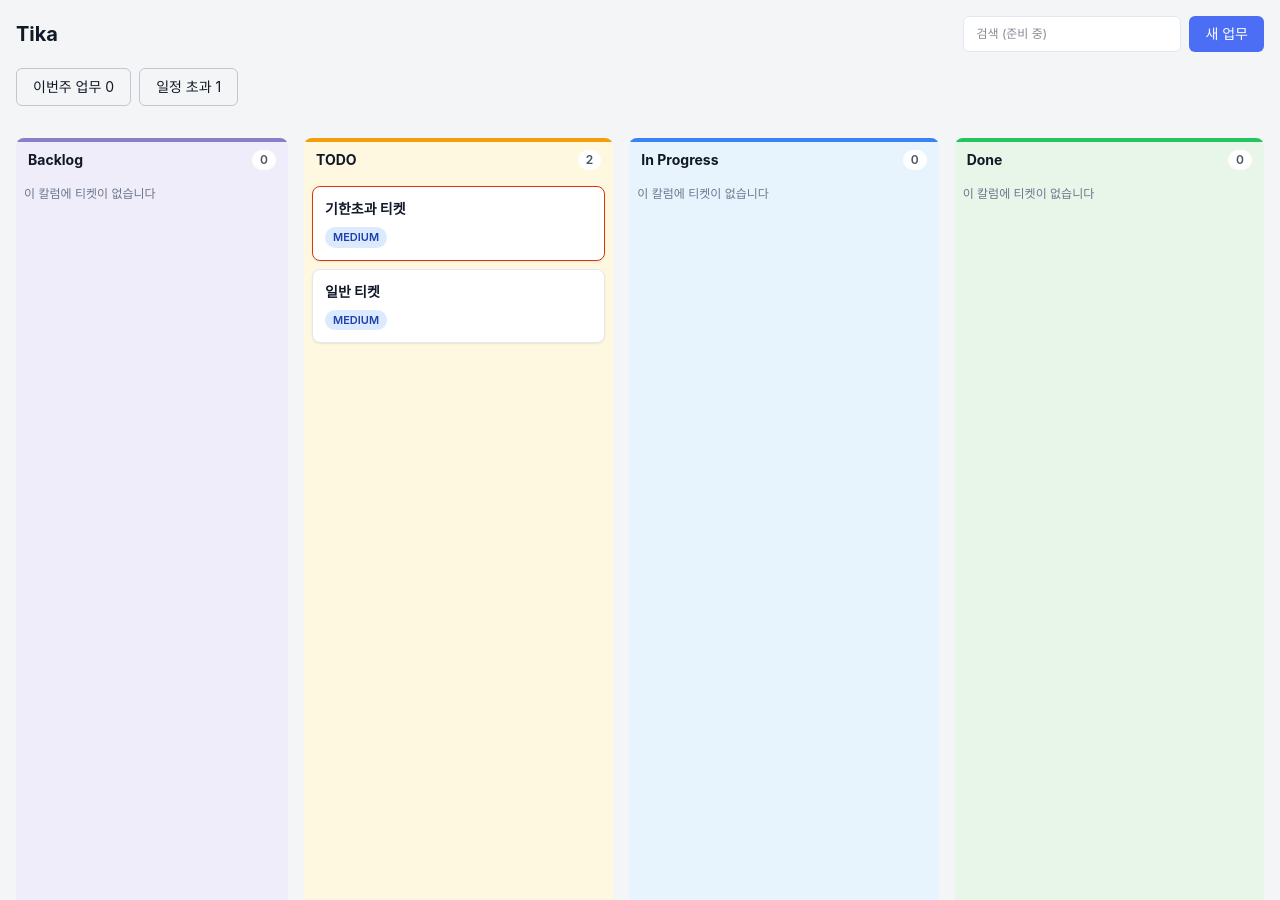
Scenario: BoardContainer › FilterBar에서 필터 변경 시 Board에는 필터링된 결과가 전달된다
The width and height of the screenshot is (1280, 900).
Check: the text "일반 티켓" is shown, box [325,282,380,300]
What coordinates should you click on to do the following:
click the button "일정 초과 1"
I would click on:
 (189, 87)
Its box is [139,68,238,106].
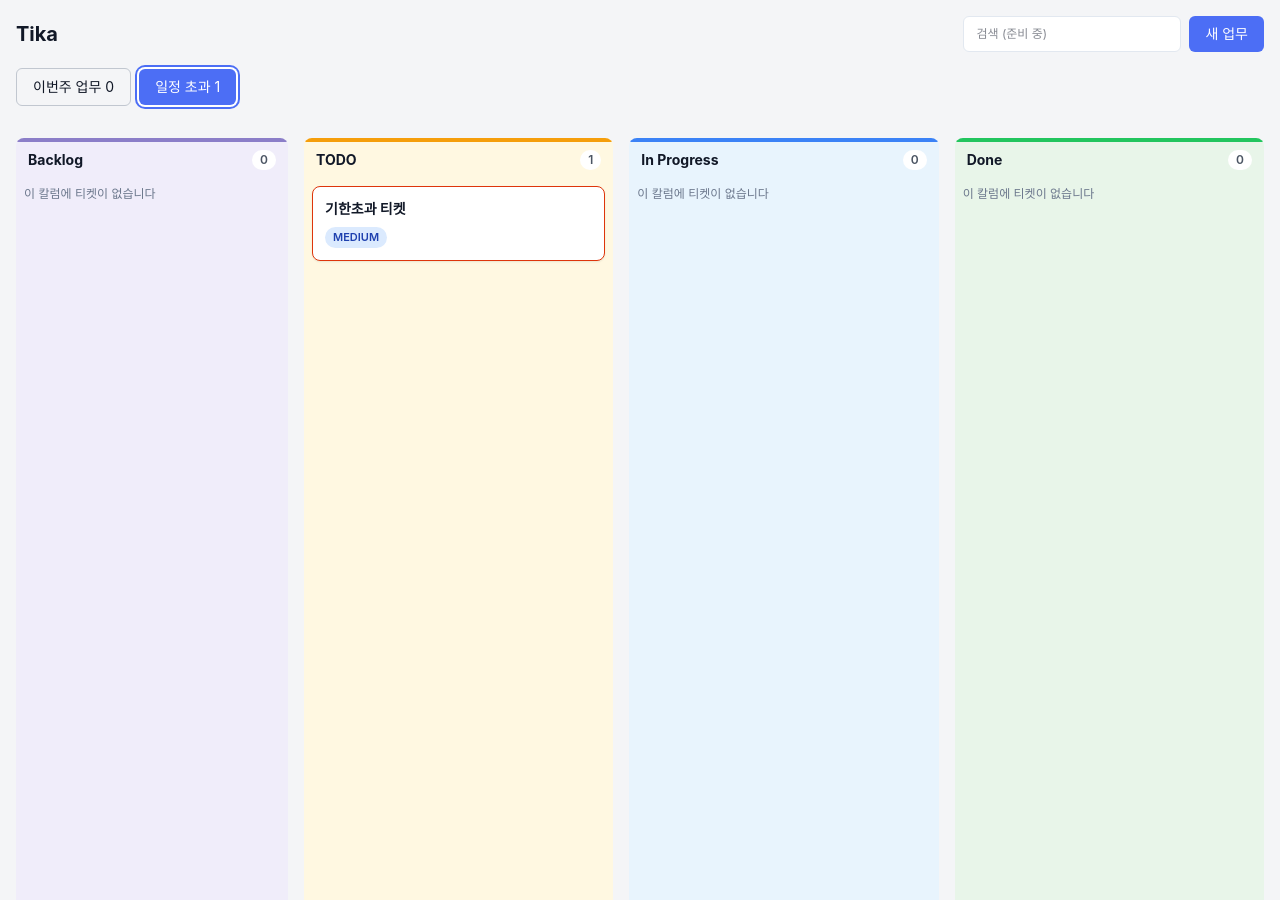
Check: the text "기한초과 티켓" is shown, box [325,200,406,217]
Check: the button "일반 티켓" is gone
